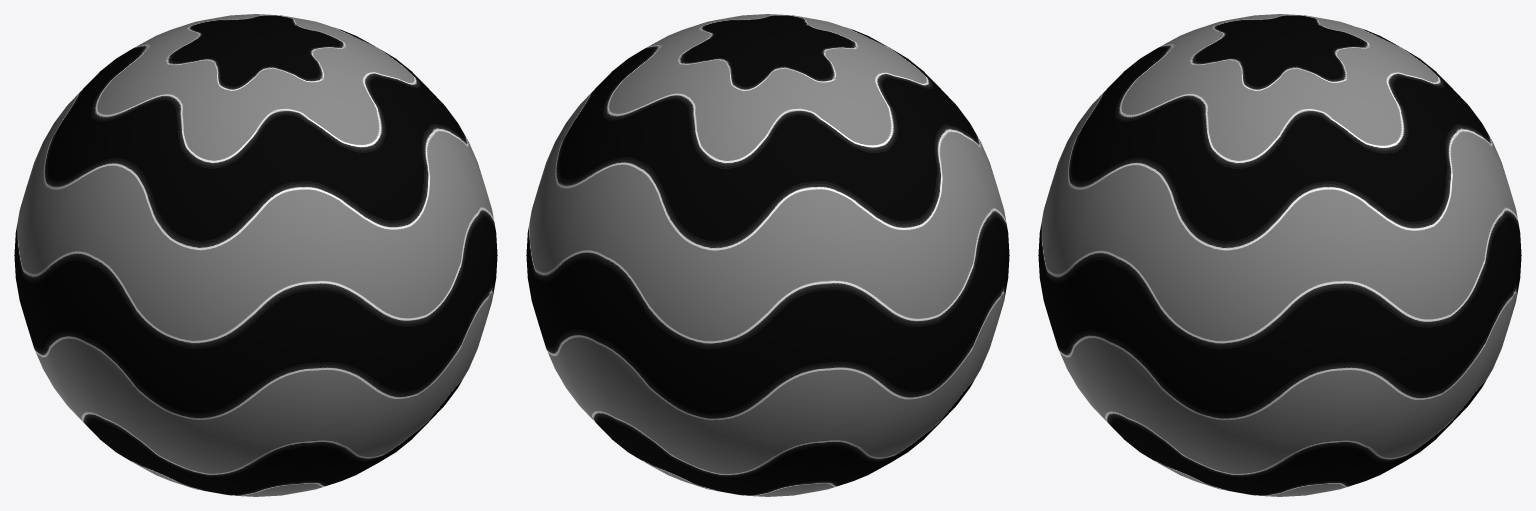
Rendered from PlanetSphere.fbx.
3 views of the same model, side by side, from view 1: azimuth 30°, elevation 25°; view 2: azimuth 150°, elevation 25°; view 3: azimuth 270°, elevation 25° (orthographic).
Visible parts, largest first — view 1: PlanetSphere; view 2: PlanetSphere; view 3: PlanetSphere.
Part boxes in pixels (x1,y1,x2,y2): PlanetSphere: (14,14,497,496); PlanetSphere: (526,14,1009,496); PlanetSphere: (1038,14,1521,496).
Bounding box in the file's own units: 38.39 × 38.39 × 38.39.
Materials: 1 (1 with a texture image).
